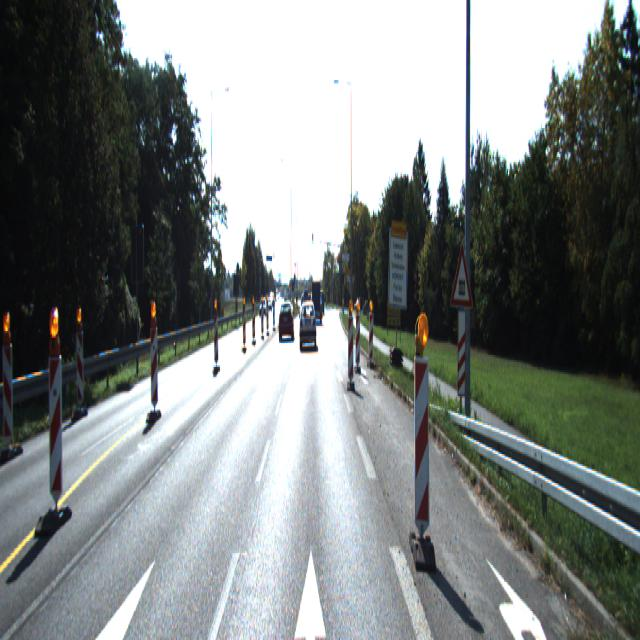Car: (300, 307, 316, 352), (278, 306, 294, 346), (312, 281, 321, 323)
